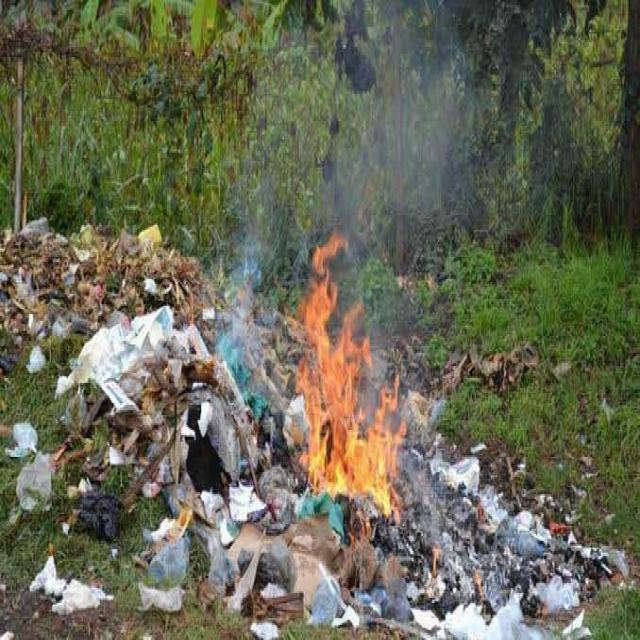fire: (284, 232, 406, 525), (166, 482, 194, 546)
